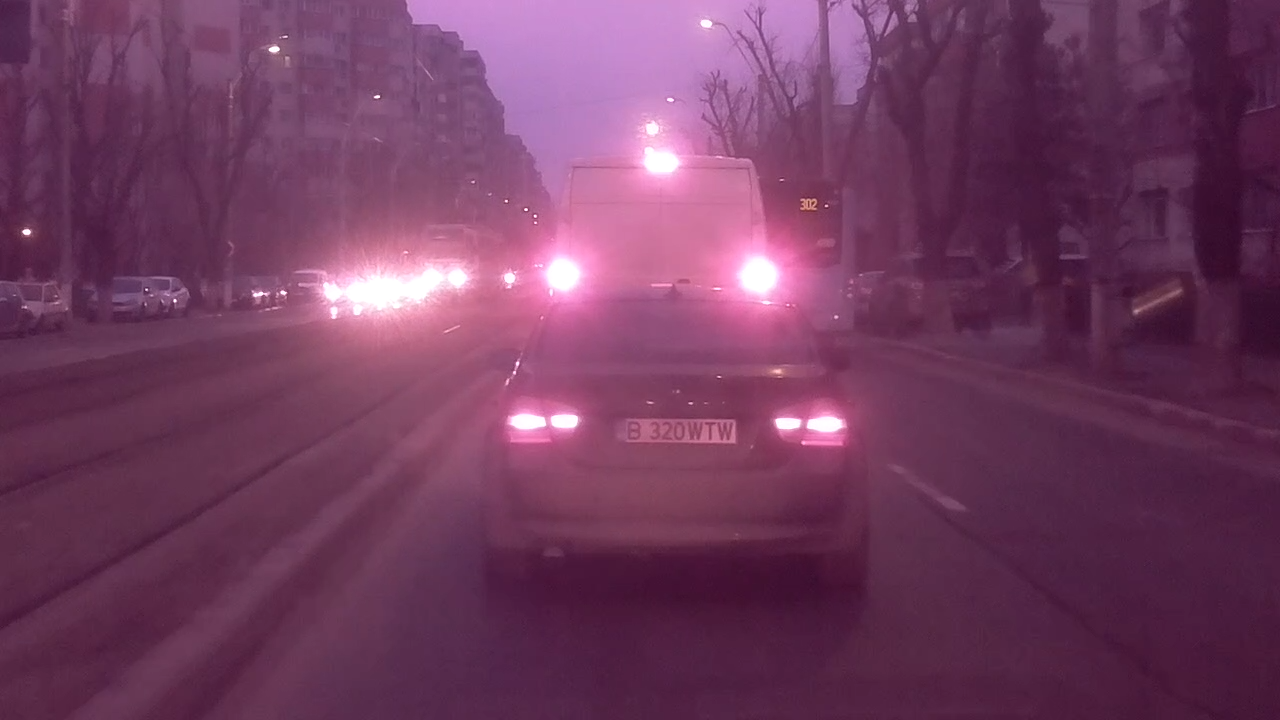license-plate: (608, 412, 742, 448)
